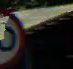Speed limit: (0, 8, 27, 64)
